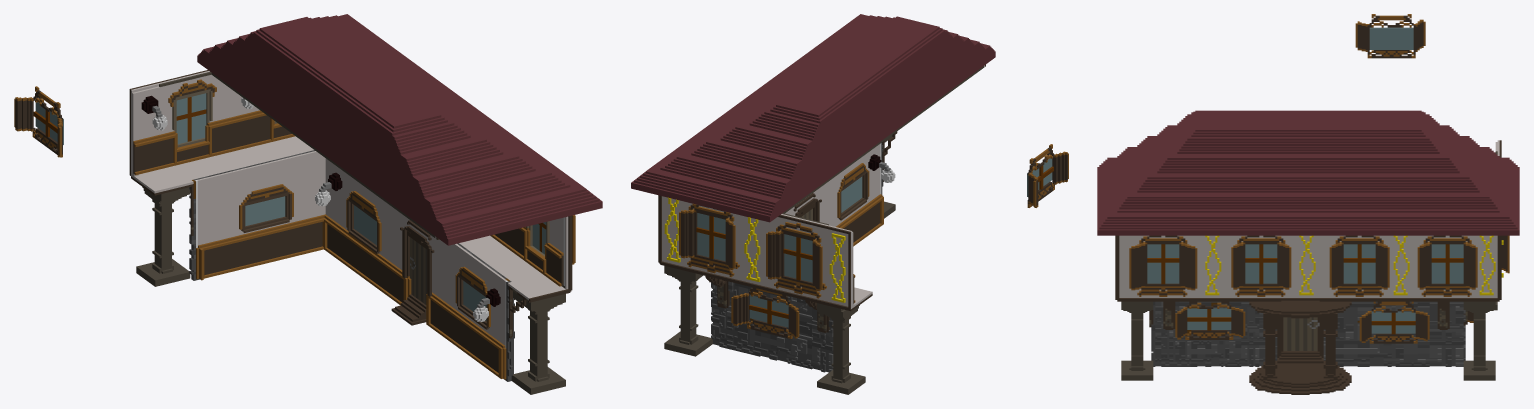
The model's file is Old_Bulgarian_House_Copy-1-Rem_Wall.obj.
3 views of the same model, side by side, from view 1: azimuth 30°, elevation 25°; view 2: azimuth 150°, elevation 25°; view 3: azimuth 270°, elevation 25° (orthographic). The views are drawn at different scales.
Visible parts, largest first — view 1: Rem_Wall; view 2: Rem_Wall; view 3: Rem_Wall.
Part boxes in pixels (x1,y1,x2,y2): Rem_Wall: (14,14,602,394); Rem_Wall: (631,14,1068,394); Rem_Wall: (1097,14,1519,394).
Size of the model in its own units: 19.7 by 12.1 by 21.1.
1 material, 1 textured.
